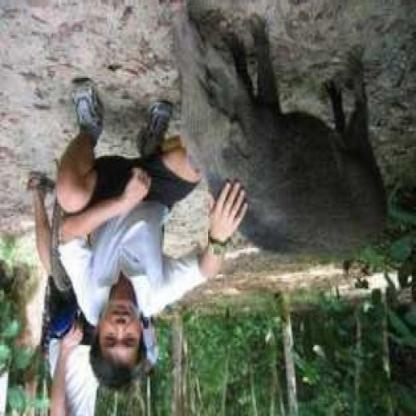boar: (155, 34, 413, 286)
